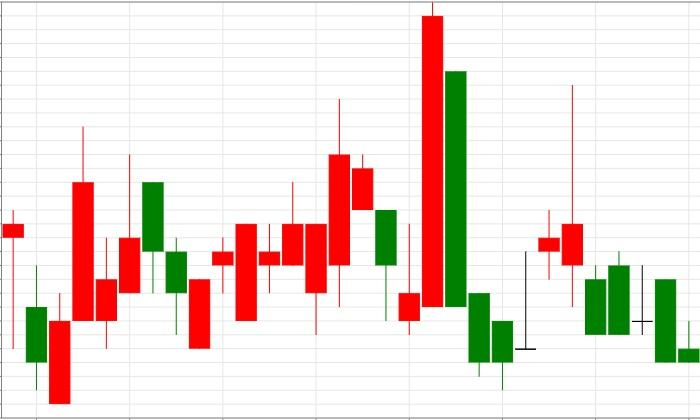inverse_hammer_rise: (329, 98, 421, 334)
